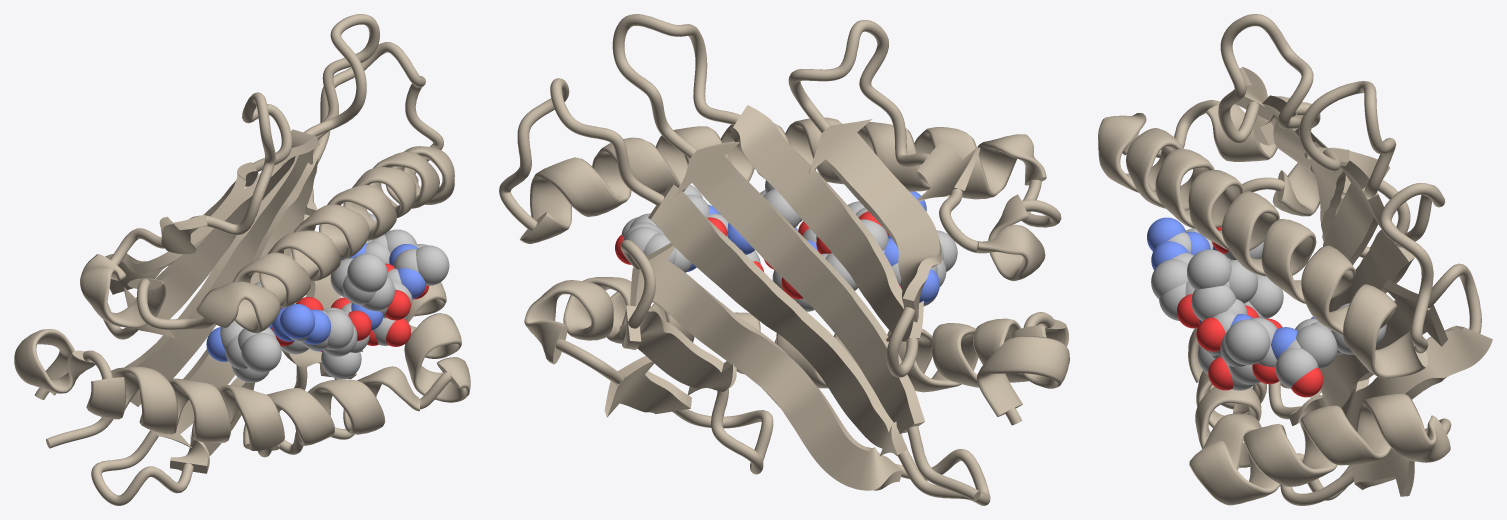
The model's file is mhc.glb.
3 renders of one model, left to right at view 1: azimuth 30°, elevation 25°; view 2: azimuth 150°, elevation 25°; view 3: azimuth 270°, elevation 25°, orthographic. The views are drawn at different scales.
Visible parts, largest first — view 1: ribbons, atoms 8, atoms 46, atoms 60, atoms 32, atoms 39, atoms 27, atoms 29, atoms 44, atoms 56, atoms 43, atoms 55; view 2: ribbons; view 3: ribbons, atoms 60, atoms 46, atoms 65, atoms 44, atoms 63, atoms 27, atoms 20, atoms 47, atoms 32, atoms 43, atoms 64 (+5 smaller).
Part boxes in pixels (x1,y1,x2,y2): ribbons: [14, 14, 470, 505]; atoms 8: [241, 333, 281, 372]; atoms 46: [347, 253, 387, 292]; atoms 60: [416, 245, 449, 285]; atoms 32: [280, 304, 314, 339]; atoms 39: [321, 351, 361, 379]; atoms 27: [325, 310, 353, 350]; atoms 29: [304, 309, 331, 344]; atoms 44: [360, 276, 394, 311]; atoms 56: [397, 268, 426, 298]; atoms 43: [385, 290, 410, 320]; atoms 55: [386, 318, 410, 346]; ribbons: [499, 14, 1069, 505]; ribbons: [1098, 14, 1492, 505]; atoms 60: [1225, 319, 1270, 365]; atoms 46: [1187, 249, 1231, 289]; atoms 65: [1296, 324, 1337, 369]; atoms 44: [1191, 285, 1236, 321]; atoms 63: [1275, 348, 1318, 388]; atoms 27: [1151, 259, 1188, 298]; atoms 20: [1249, 276, 1283, 318]; atoms 47: [1228, 260, 1257, 303]; atoms 32: [1147, 217, 1185, 251]; atoms 43: [1196, 317, 1225, 351]; atoms 64: [1291, 367, 1323, 397].
Bounding box in the file's own units: 50.01 × 41.49 × 32.44.
